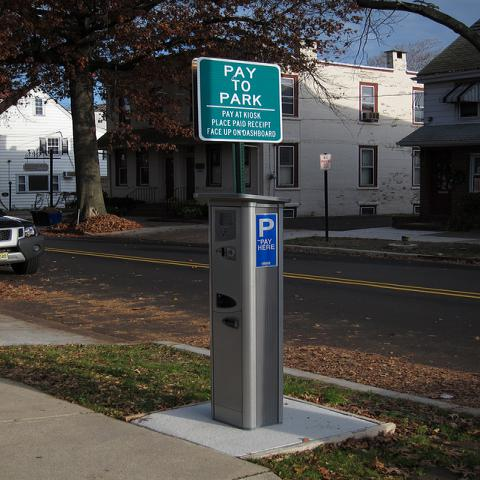car: (0, 209, 46, 275)
